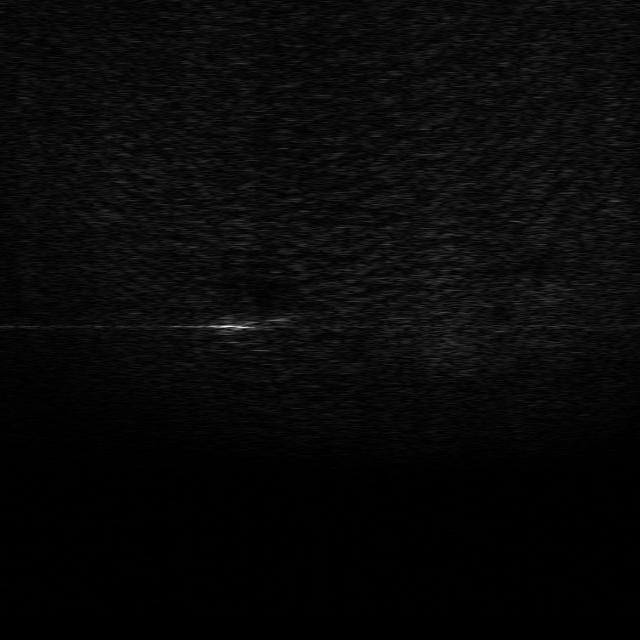plane: (212, 302, 302, 346)
